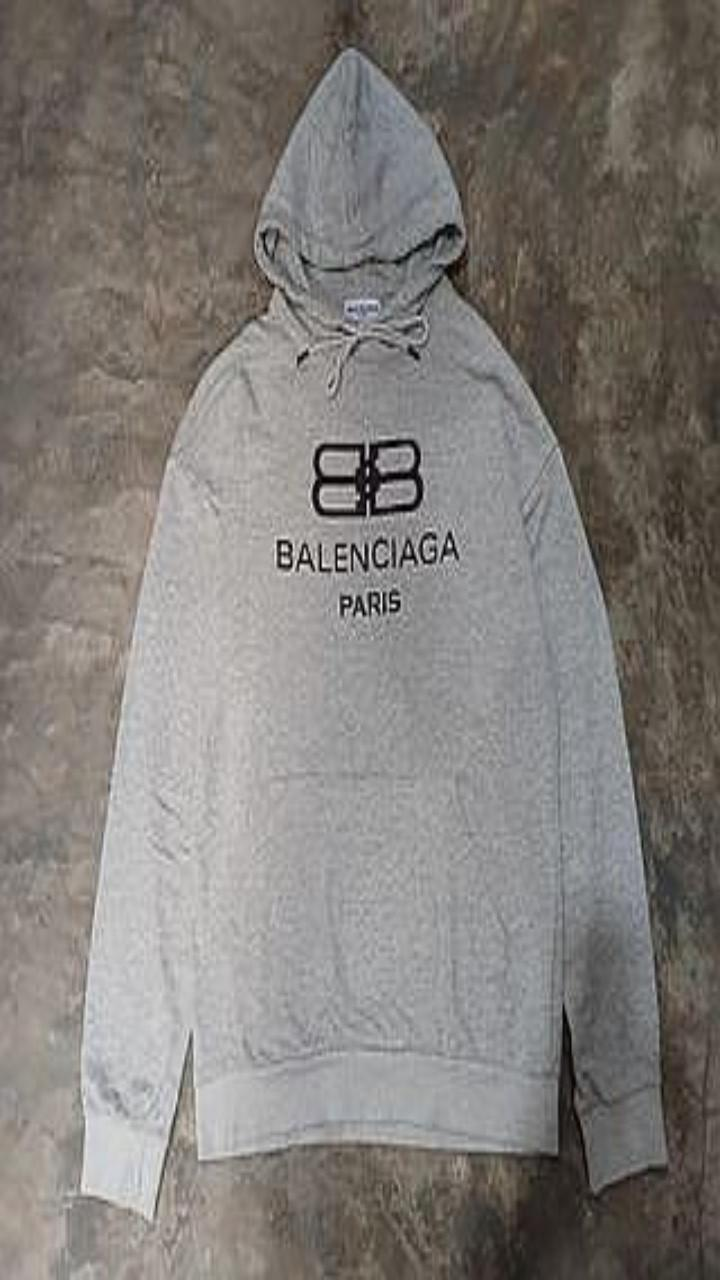Hoodie: (81, 48, 666, 1218)
